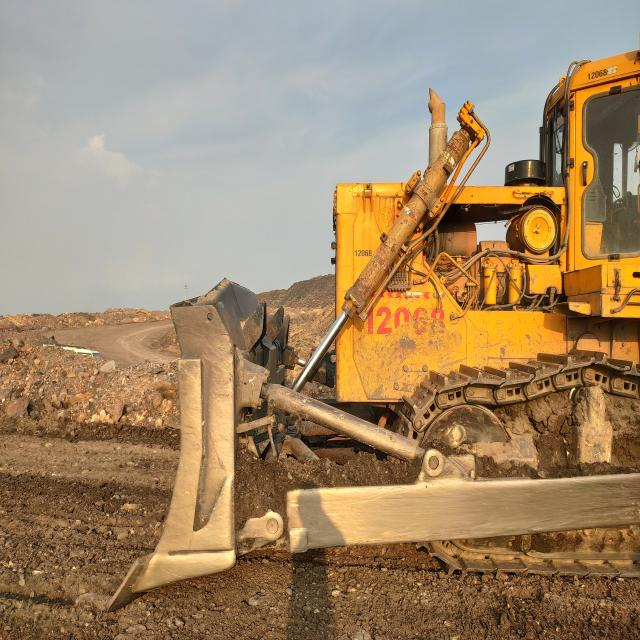buldozerpayloadergrader: (109, 50, 640, 612)
